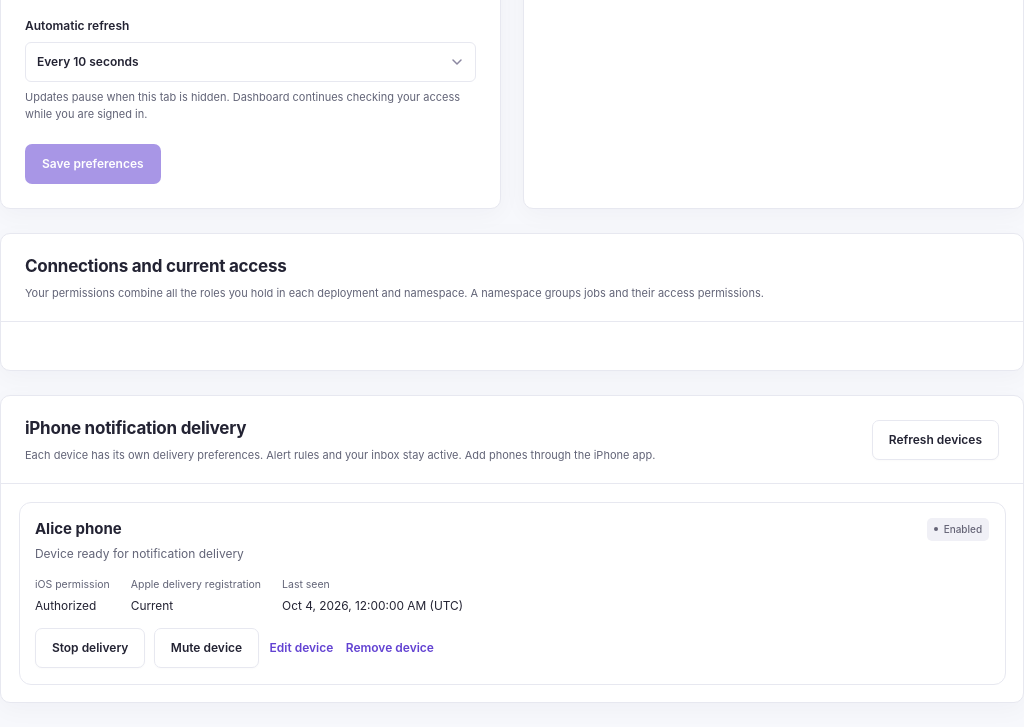
does not retry an uncertain write until the user obtains a fresh list
(page scrolled)
Expected: the element "Alice phone" is shown, [18,502,1006,685]
Click the button "Stop delivery".
click(90, 648)  # box [35,628,145,668]
(page scrolled)
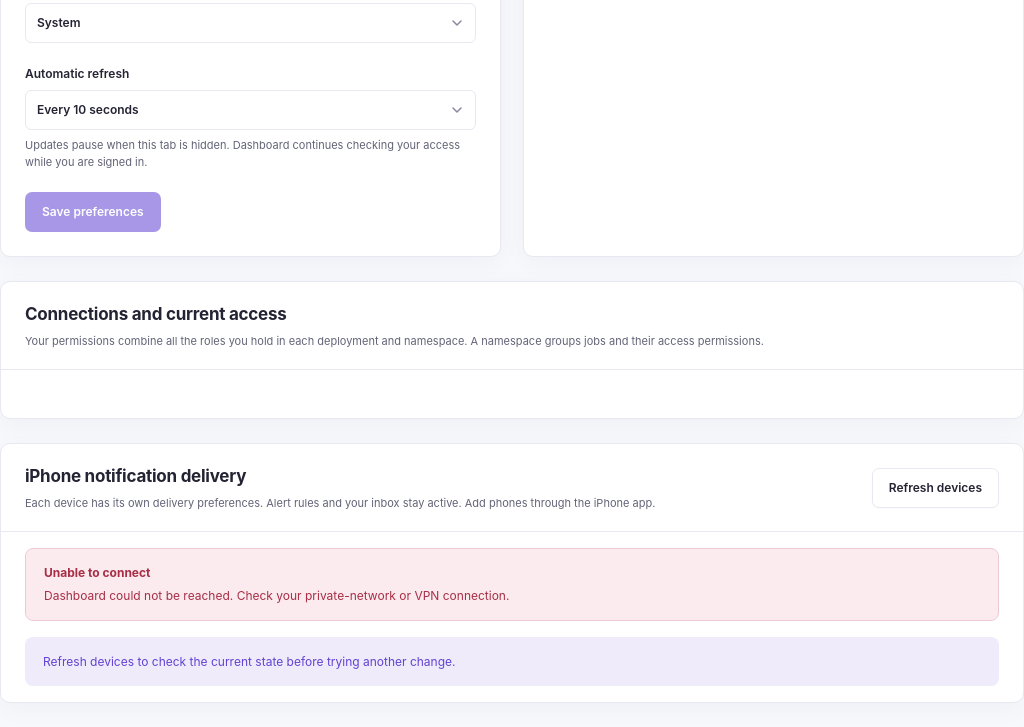
Expected: the text "Refresh devices to check the current state before trying another change." is shown, [25,637,999,686]
Click the button "Refresh devices".
click(935, 488)  # box [872,468,999,508]
(page scrolled)
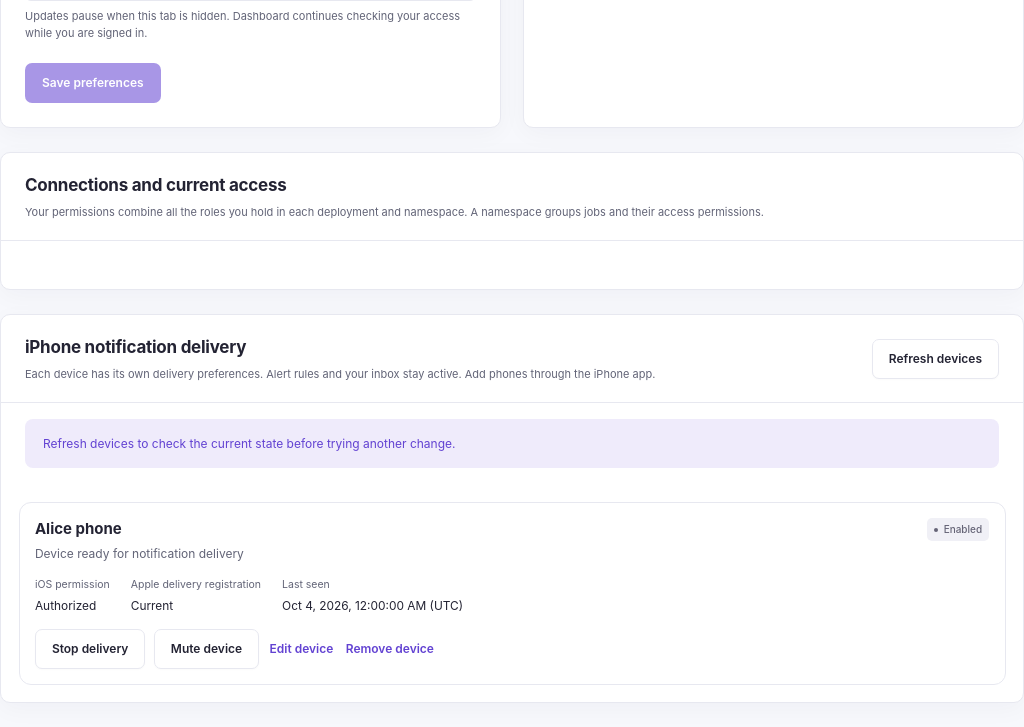
Expected: the element "Alice phone" is shown, [18,502,1006,685]
